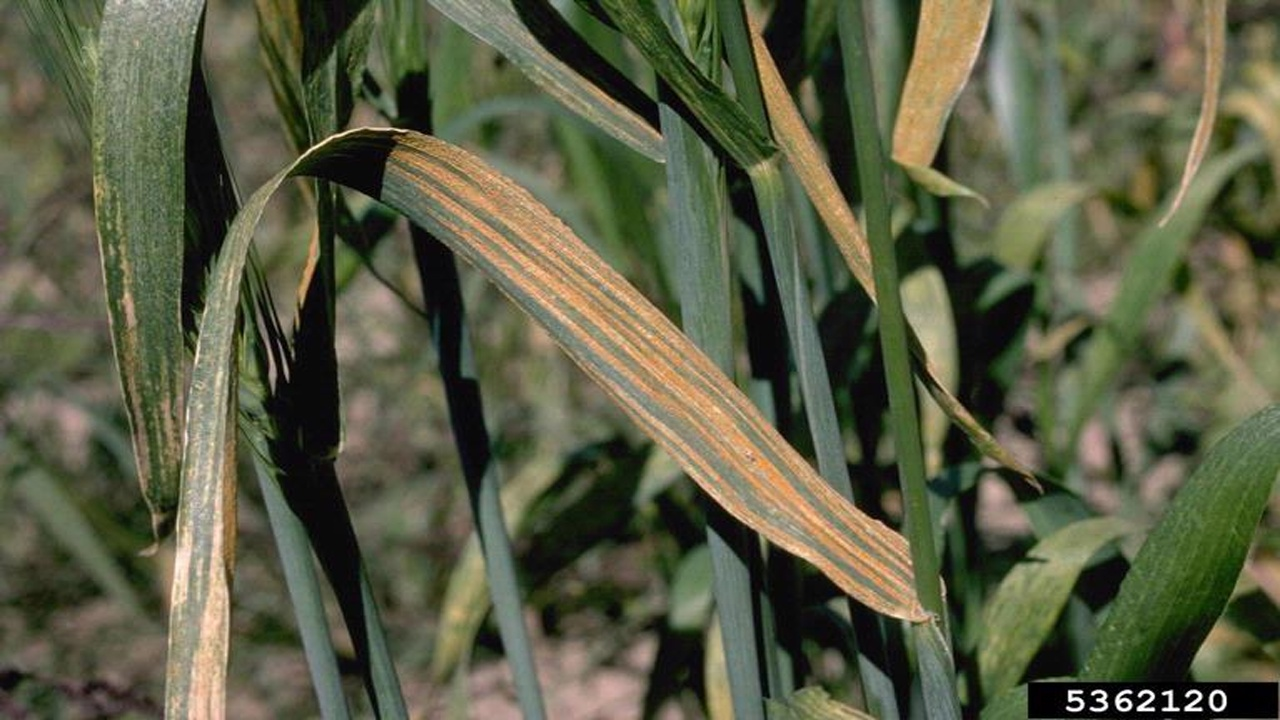stripe_rust: (357, 130, 921, 617), (165, 176, 285, 720), (745, 3, 871, 299), (898, 1, 990, 201)
